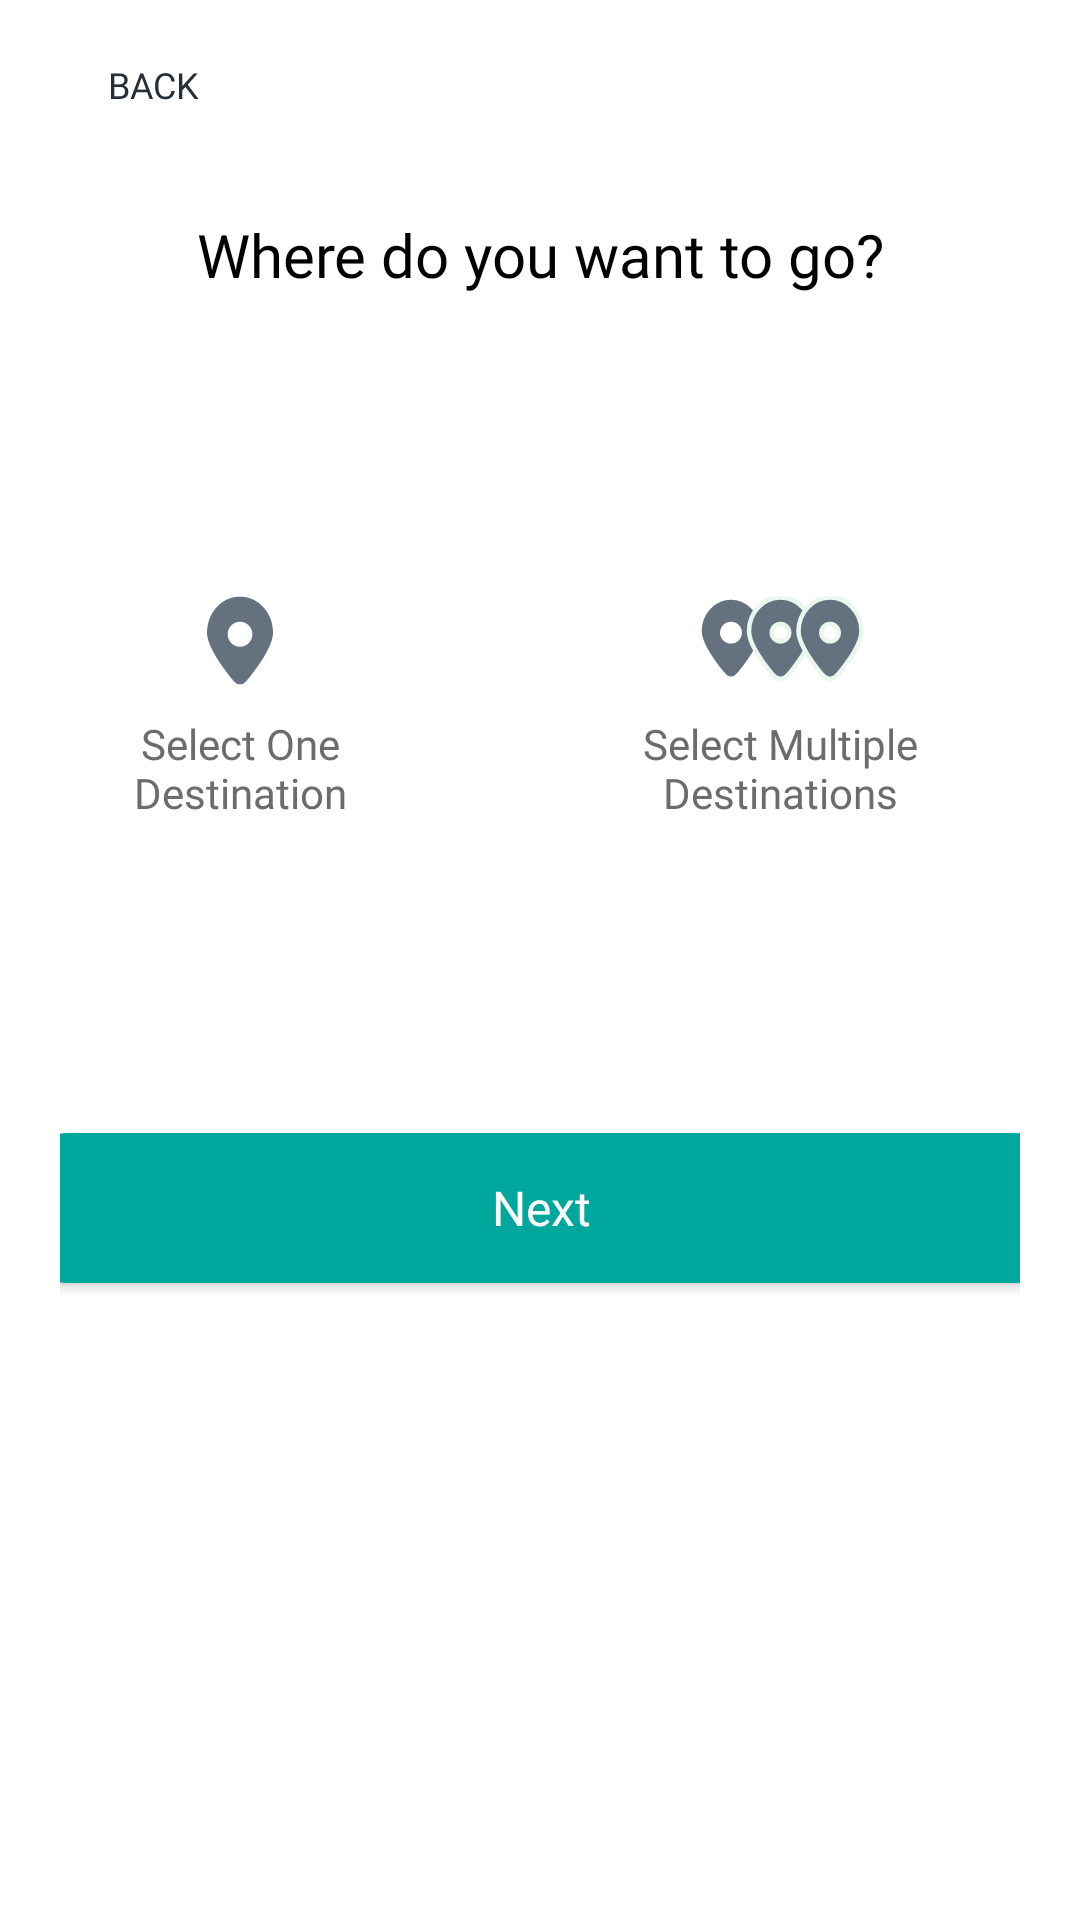

Screen size 1080 x 1920. Icon name, then its box in pixels as (x1, y1, x2, y2):
location: (207, 596, 273, 685)
locations: (701, 599, 860, 677)
